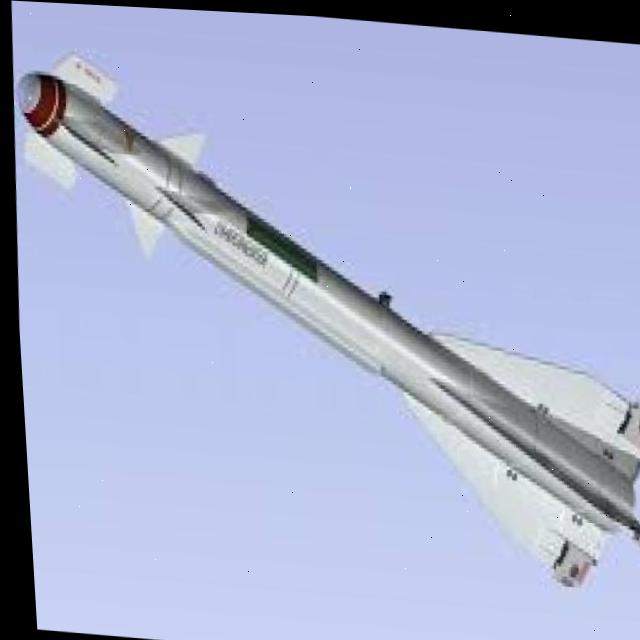missile: (2, 43, 640, 594)
